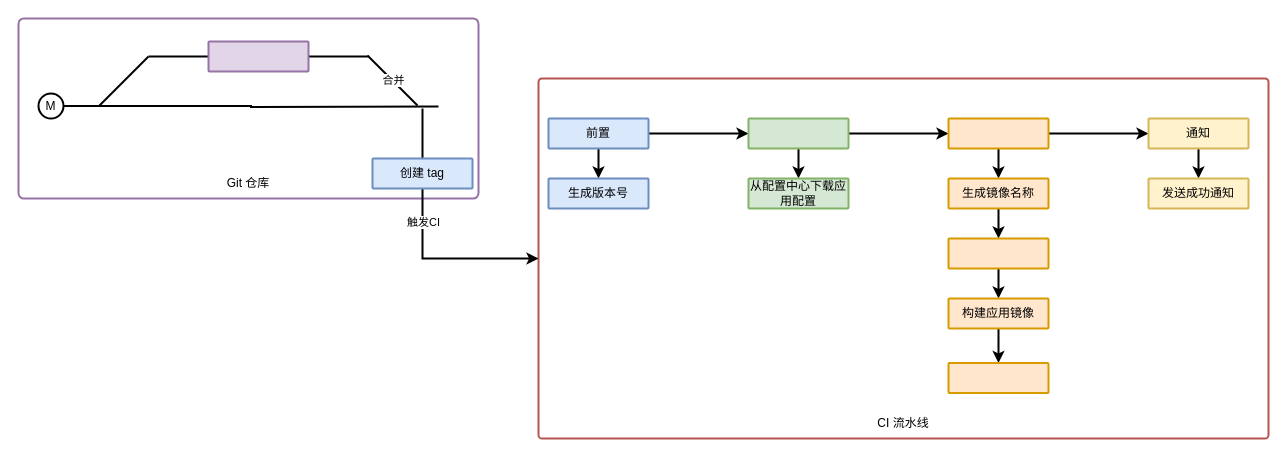
Image size: 1286x456. Some labels were removed from this diagram. The centre of each missing label's shape, as x and y in pixels:
"依赖下载" belongs at (798,133).
"将版本镜像推送到制品库" belongs at (998,378).
"构建" belongs at (998,133).
"特性分支" belongs at (258,56).
"登录 docker 仓库" belongs at (998,253).
